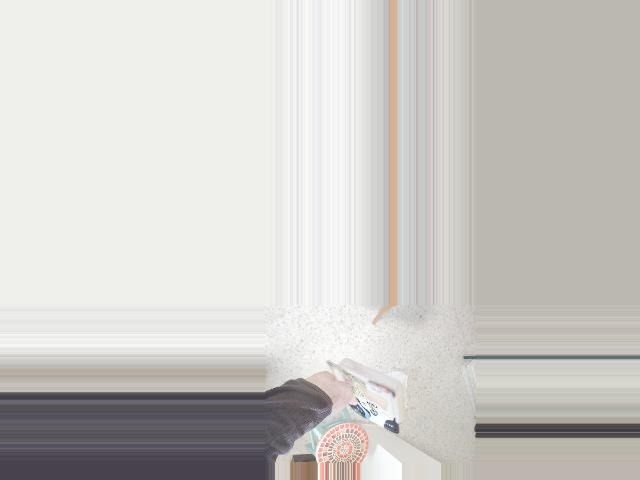cheese: (308, 349, 408, 447)
